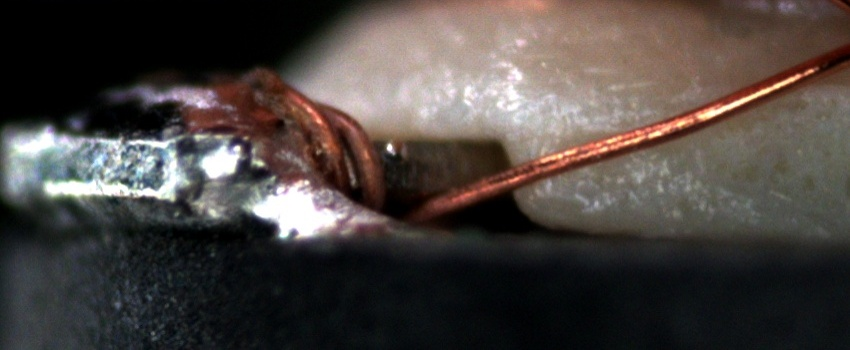DL: (577, 77, 850, 118)
TE: (259, 70, 401, 212)
